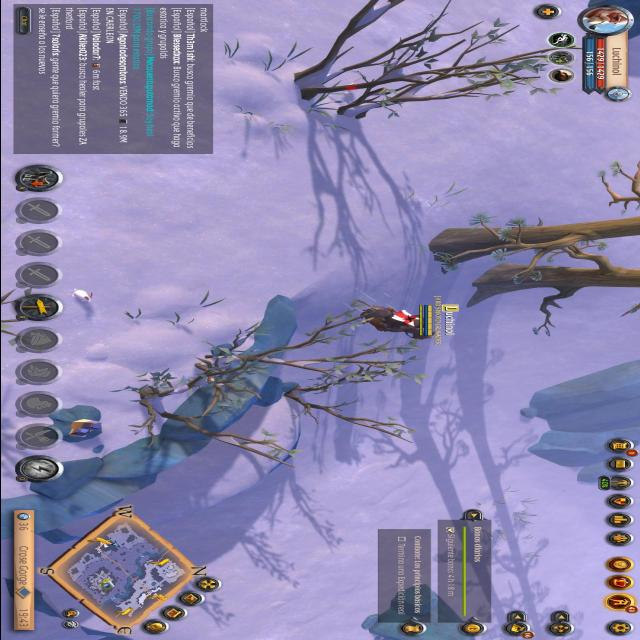piedra_cobre: (44, 405, 102, 441)
